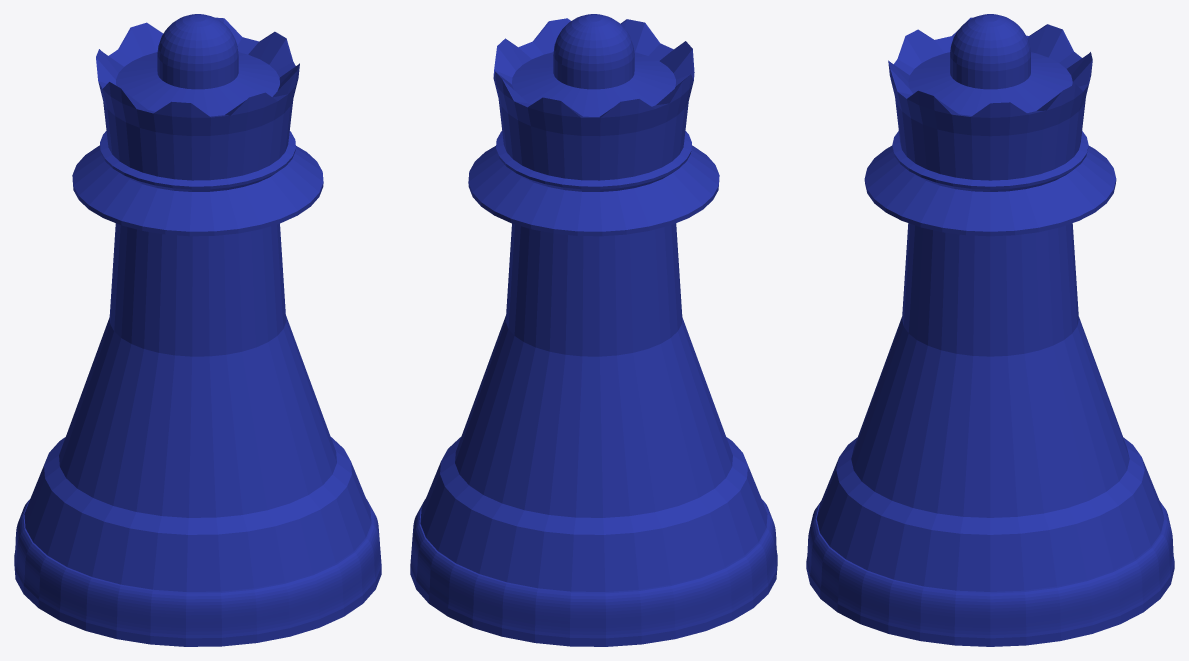
Rendered from Player's team Queen.fbx.
3 renders of one model, left to right at view 1: azimuth 30°, elevation 25°; view 2: azimuth 150°, elevation 25°; view 3: azimuth 270°, elevation 25°, orthographic.
Visible parts, largest first — view 1: Cylinder.001; view 2: Cylinder.001; view 3: Cylinder.001.
Boxes of the visible parts, box(x1,y1,x2,y2) form: Cylinder.001: box(14, 14, 381, 646); Cylinder.001: box(410, 14, 777, 646); Cylinder.001: box(806, 14, 1174, 646).
Bounding box in the file's own units: 315 × 315 × 521.
